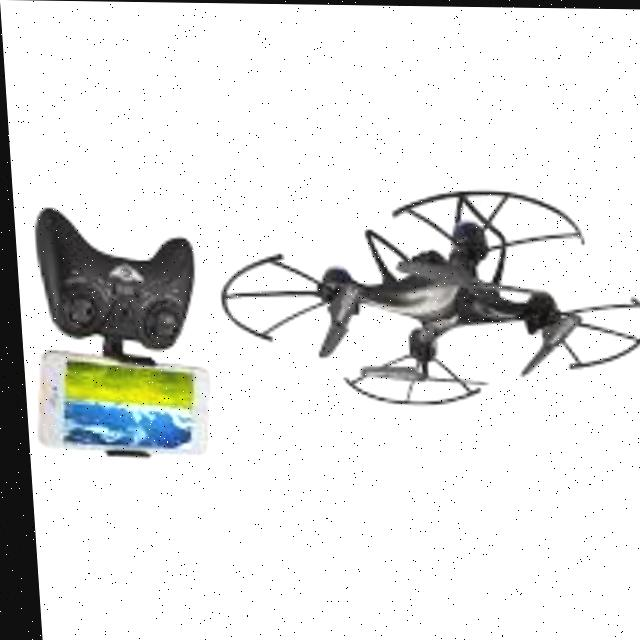drone: (205, 159, 640, 425)
